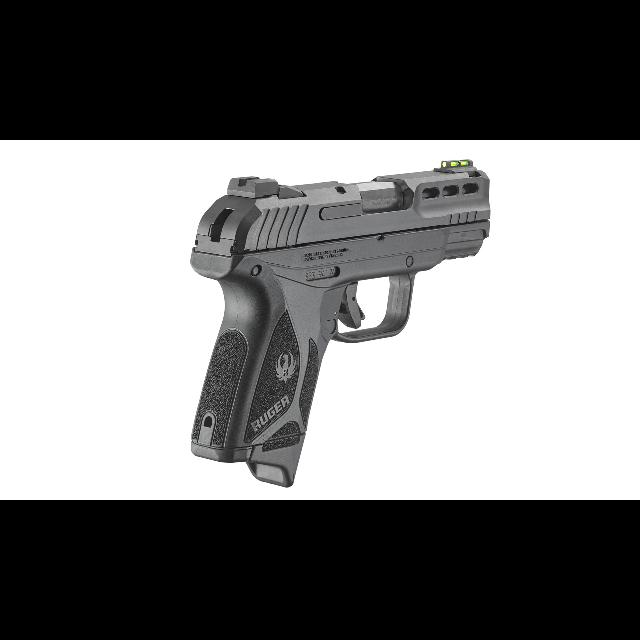handgun: (182, 155, 494, 492)
